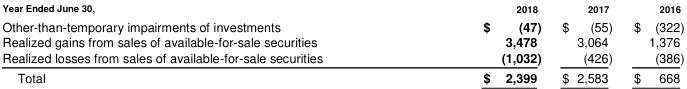table: (1, 0, 683, 85)
table column: (1, 0, 402, 85), (402, 0, 550, 85), (550, 0, 622, 85), (622, 0, 683, 85)
table column header: (1, 0, 683, 15)
table row: (1, 66, 683, 85), (1, 15, 683, 33), (1, 48, 683, 66), (1, 0, 683, 15), (1, 33, 683, 48)
